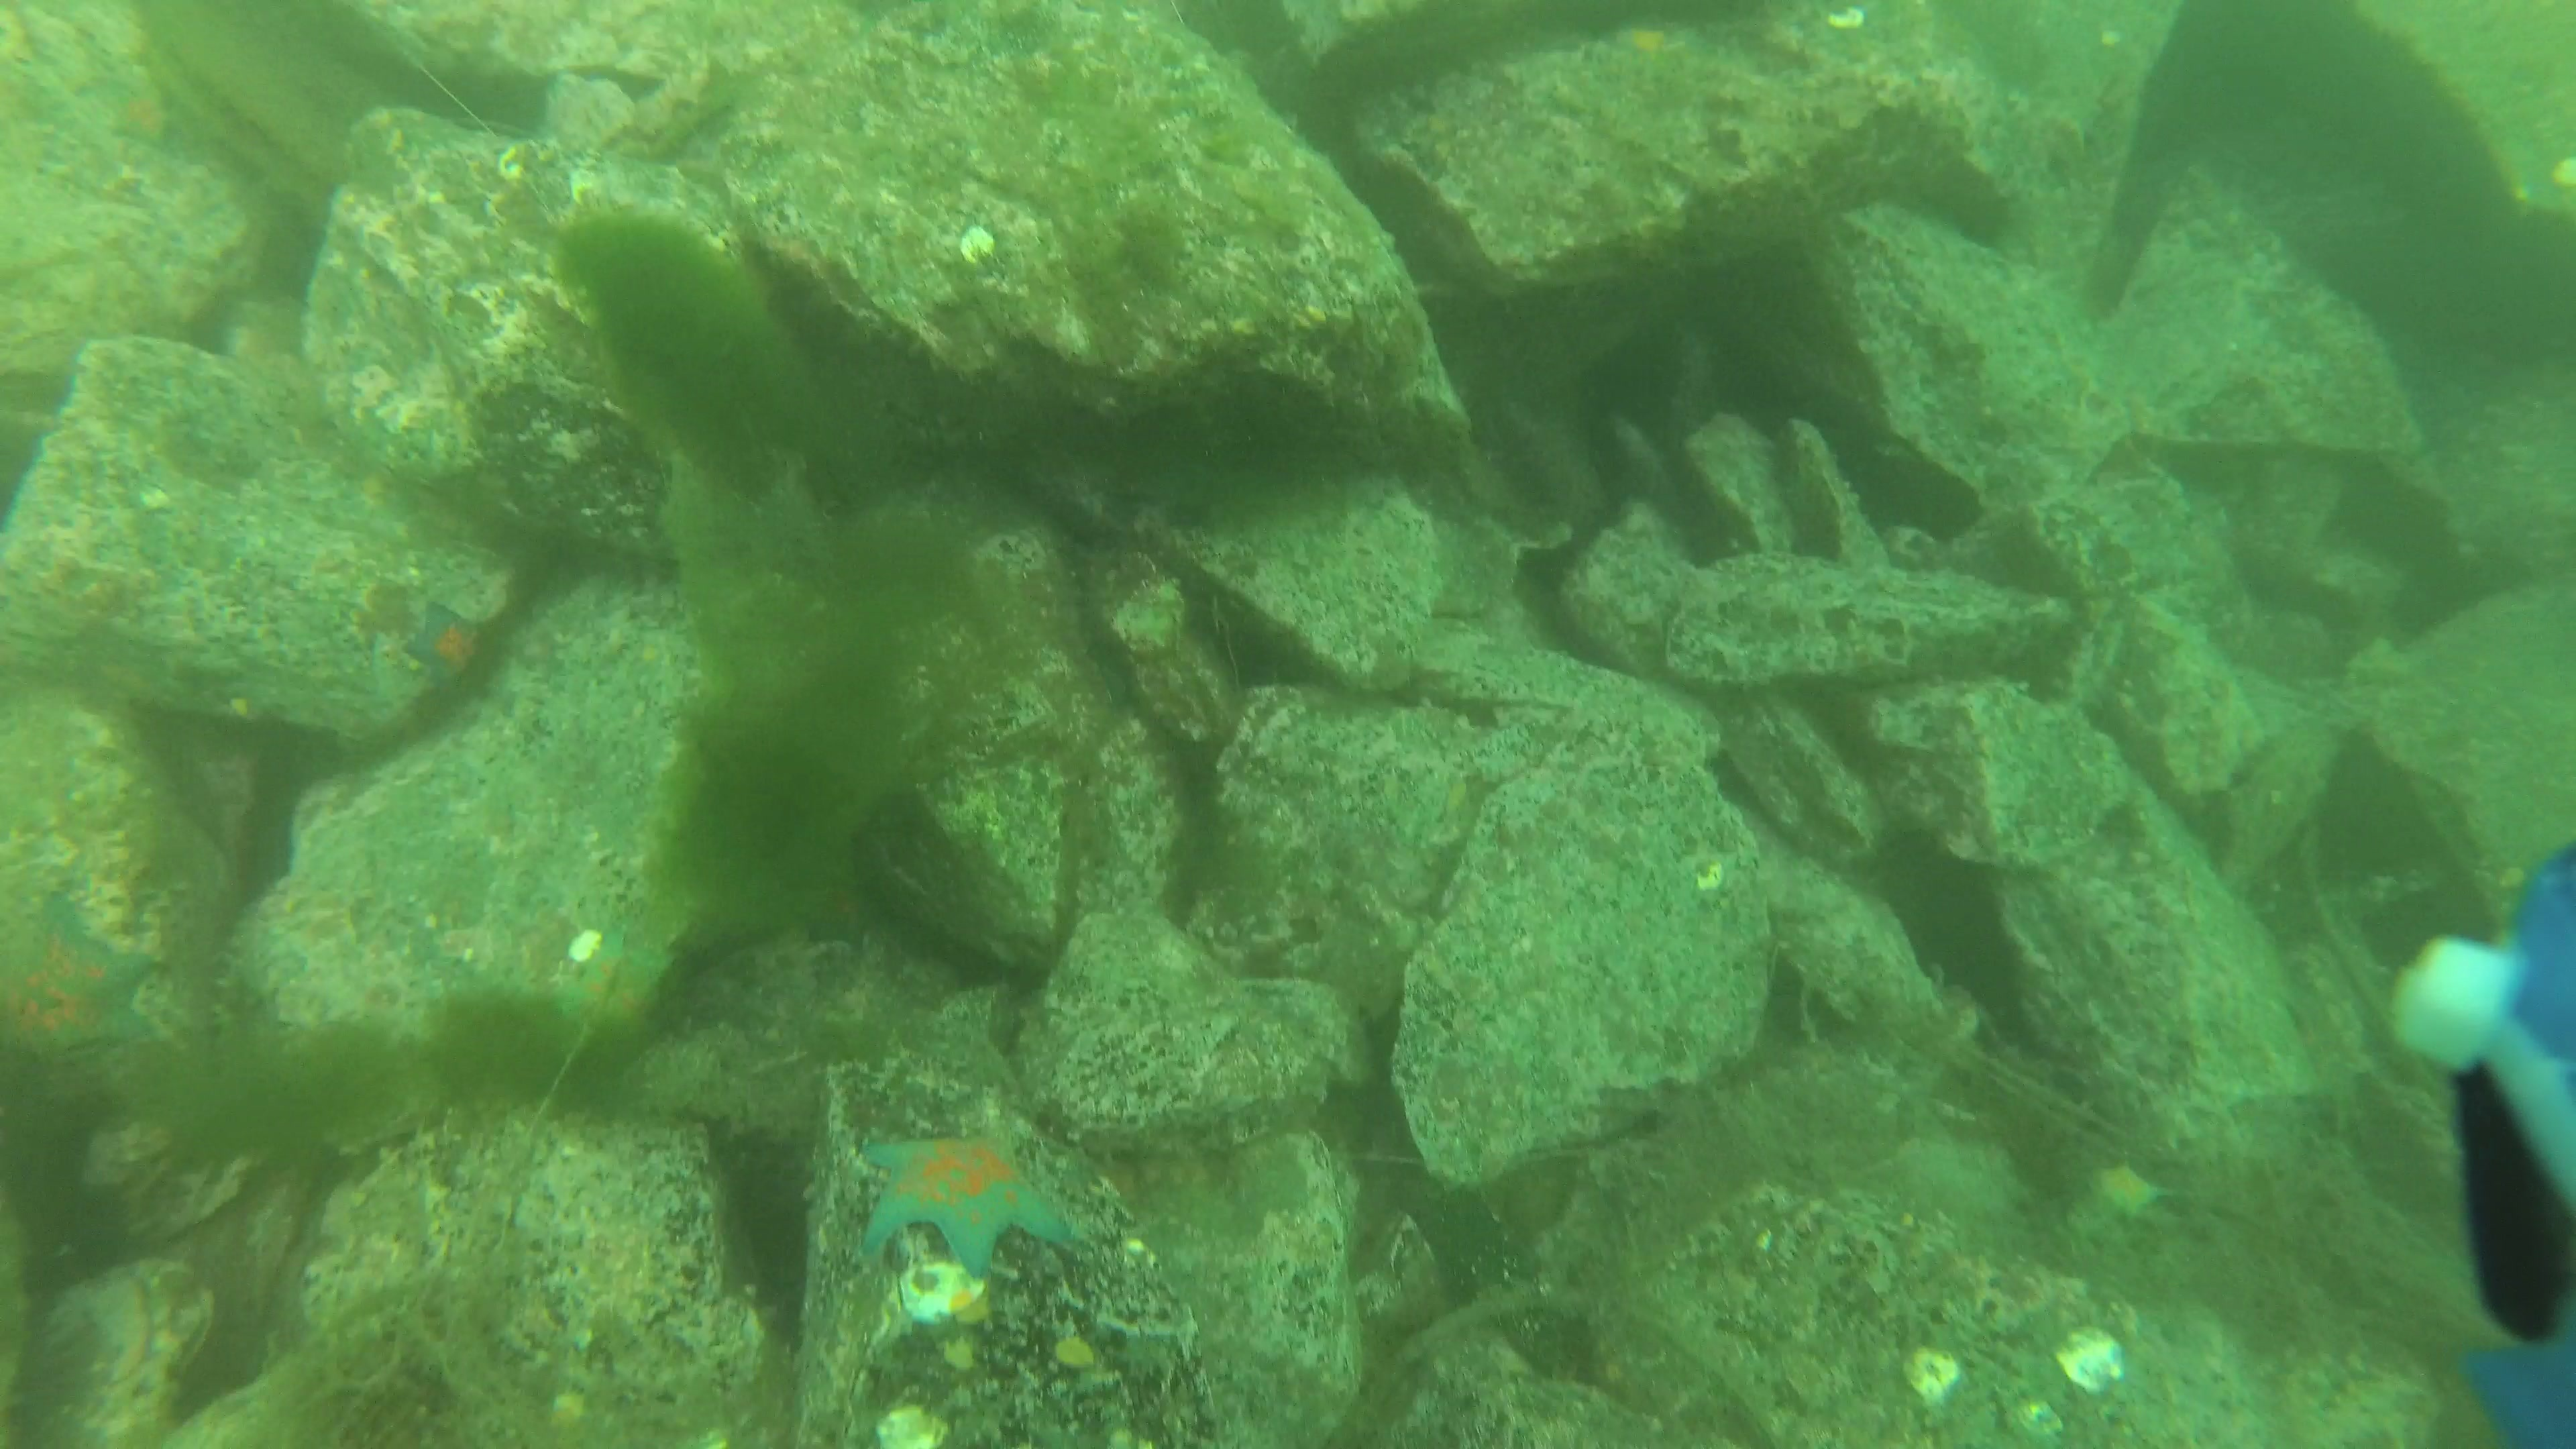starfish: (860, 1134, 1076, 1281), (5, 883, 163, 1069), (557, 929, 685, 1047), (402, 600, 488, 692), (2077, 1157, 2171, 1235), (103, 83, 180, 150)
